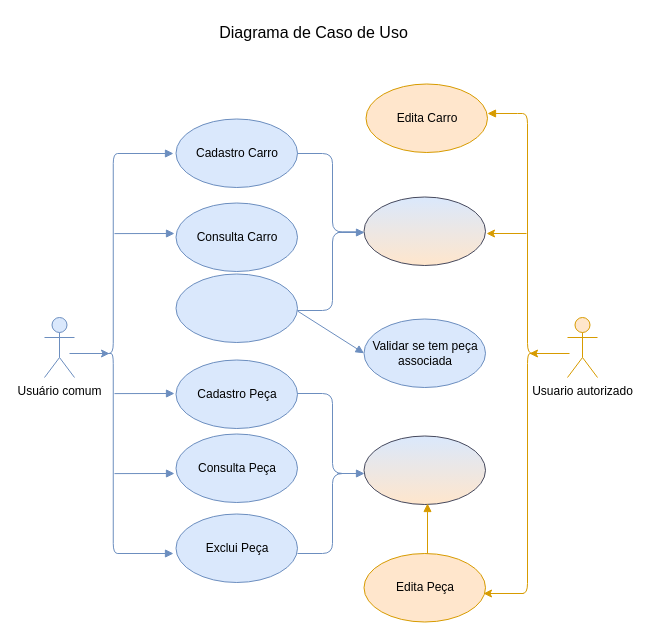
This 650x639 diagram has some shape labels left out. Here are the shapes that lost their labels. From the top down, the centre of each, then its label:
point (424, 231): Validar se Carro já existe
point (236, 307): Exclui Carro
point (424, 469): Validar se Peça já existe
